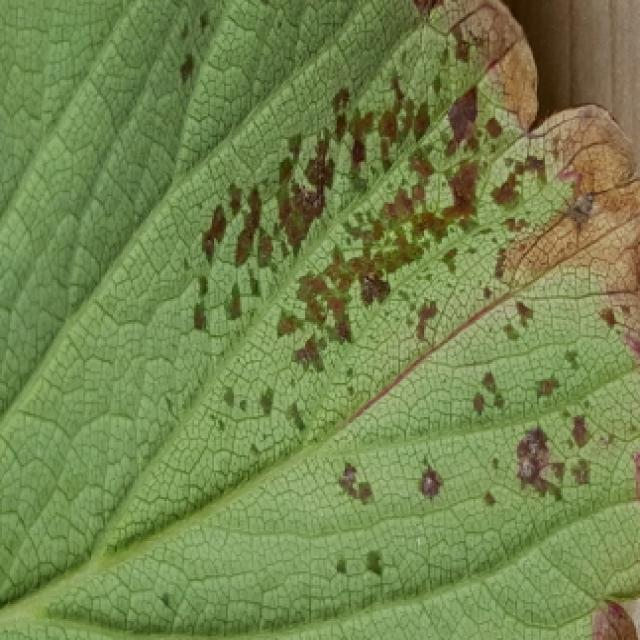Angular Leafspot: (139, 0, 640, 640)
